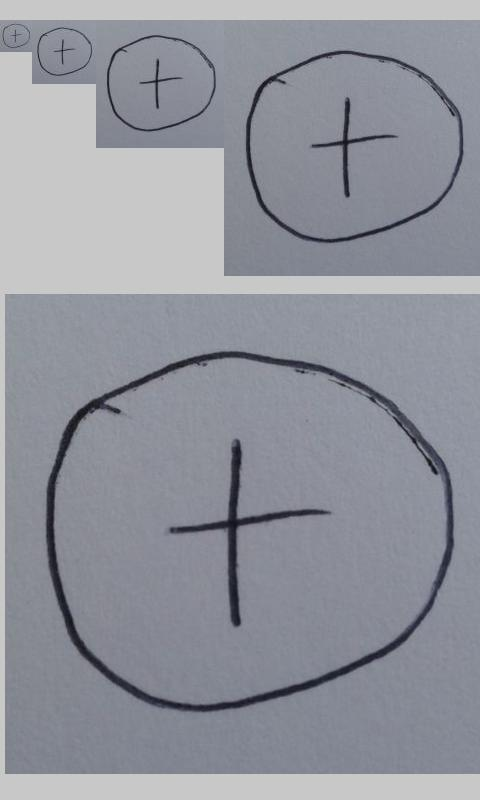button: (44, 348, 457, 717), (245, 49, 464, 244), (106, 34, 218, 133), (36, 27, 93, 77), (2, 23, 31, 49)
